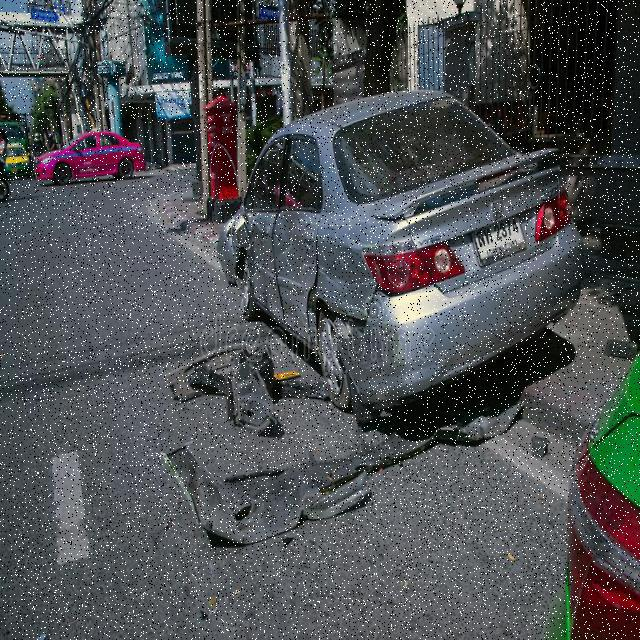doorouter-dent: (276, 212, 318, 336), (246, 212, 278, 310)
quaterpanel-dent: (320, 222, 400, 328)
rear-bumper-dent: (328, 309, 442, 414)
